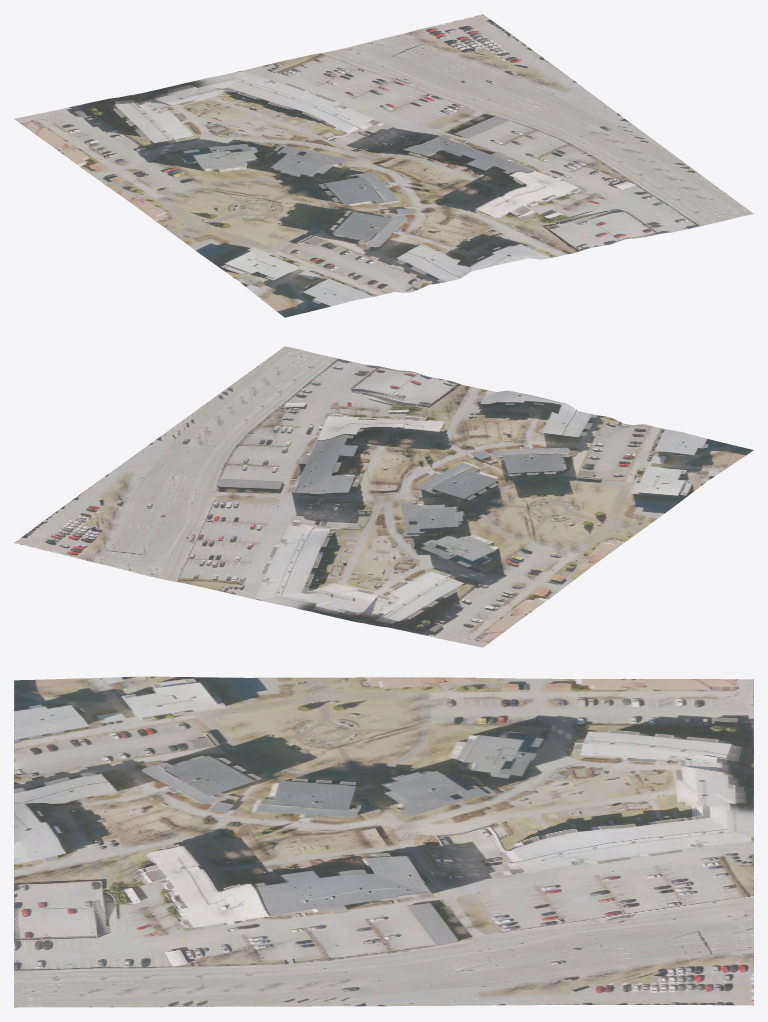
Rendered from CM_Terrain_24487182_6819180.fbx.
3 views of the same model, one above another, from view 1: azimuth 30°, elevation 25°; view 2: azimuth 150°, elevation 25°; view 3: azimuth 270°, elevation 25° (orthographic). The views are drawn at different scales.
Parts seen in each view (by area): view 1: CM_Terrain_24487182_6819180_LOD0; view 2: CM_Terrain_24487182_6819180_LOD0; view 3: CM_Terrain_24487182_6819180_LOD0.
Boxes of the visible parts, x1,y1,x2,y2 form: CM_Terrain_24487182_6819180_LOD0: (14, 14, 753, 317); CM_Terrain_24487182_6819180_LOD0: (14, 346, 753, 647); CM_Terrain_24487182_6819180_LOD0: (14, 676, 753, 1007).
Size of what is drawn, in the model's own units: 205 by 5.98 by 205.
